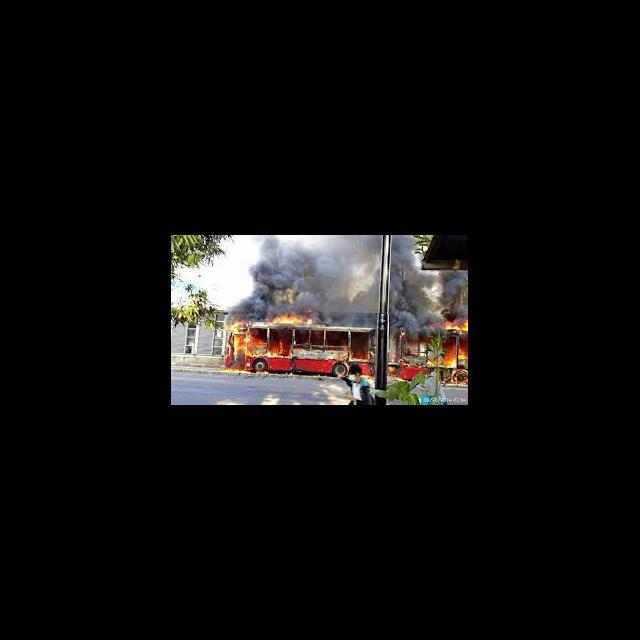Fire: (222, 321, 251, 378), (268, 330, 294, 360), (271, 312, 311, 325), (440, 338, 456, 368), (444, 320, 468, 334), (248, 330, 266, 348), (458, 338, 468, 359)
Smoke: (254, 238, 378, 306), (392, 238, 419, 328), (422, 273, 441, 331), (317, 308, 375, 326), (443, 273, 466, 316), (234, 304, 268, 318)
